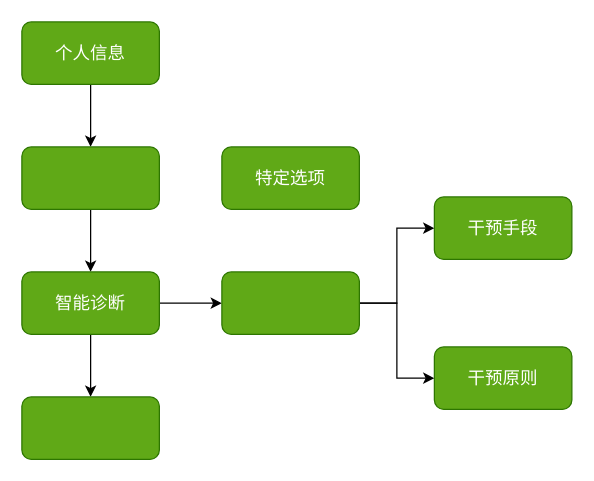
This 594x481 diagram has some shape labels left out. The shapes that lost their labels are listed below. From the top down, each one's centre as x and y in pixels, then its label:
point (90, 177): 选择症状
point (290, 302): 病症
point (90, 427): 知识图谱
